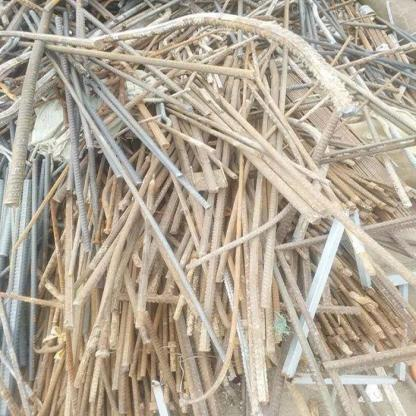rebar: (2, 3, 411, 413)
